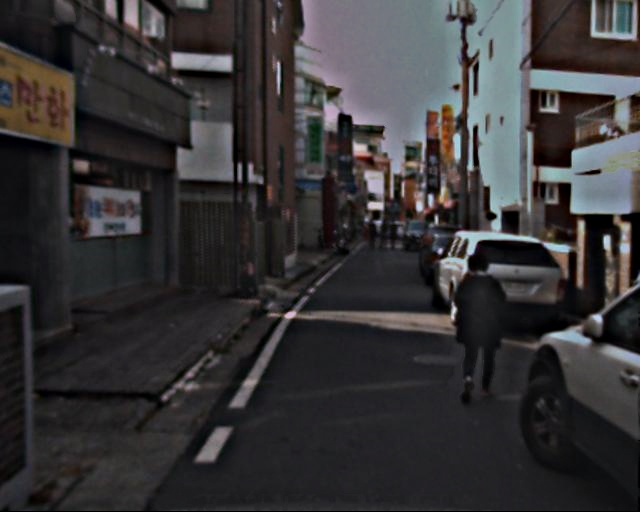person: (443, 254, 511, 404), (373, 221, 404, 255)
